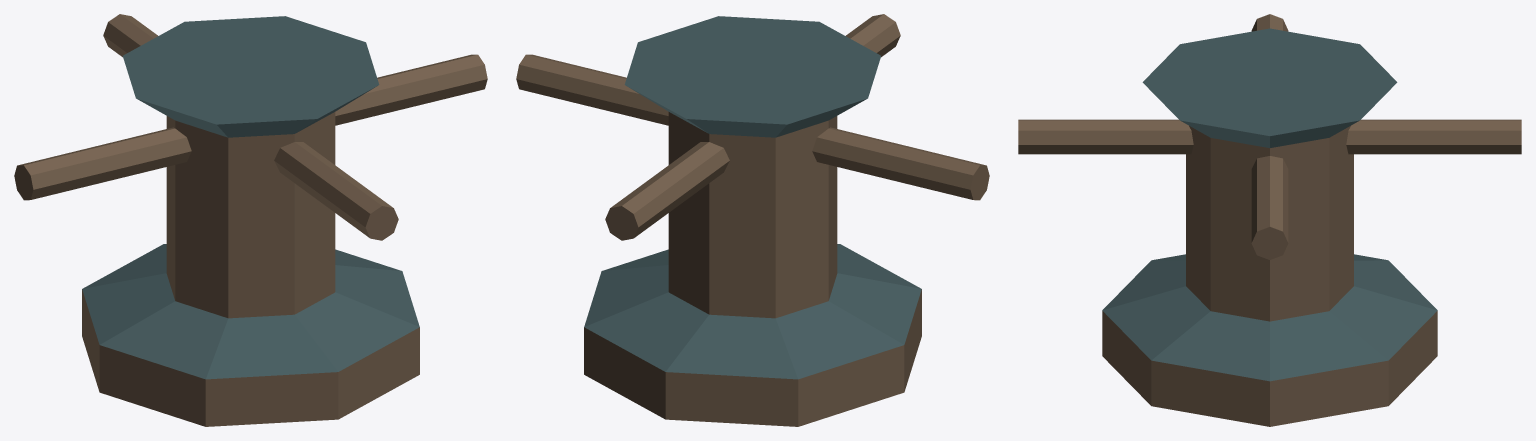
Rendered from capstan.glb.
3 renders of one model, left to right at view 1: azimuth 30°, elevation 25°; view 2: azimuth 150°, elevation 25°; view 3: azimuth 270°, elevation 25°, orthographic. The views are drawn at different scales.
Parts seen in each view (by area): view 1: capstan__body; view 2: capstan__body; view 3: capstan__body.
Part boxes in pixels (x1,y1,x2,y2): capstan__body: [14, 14, 487, 426]; capstan__body: [516, 14, 989, 426]; capstan__body: [1018, 14, 1521, 426].
Size of the model in its own units: 1.5 by 0.9 by 1.5.
